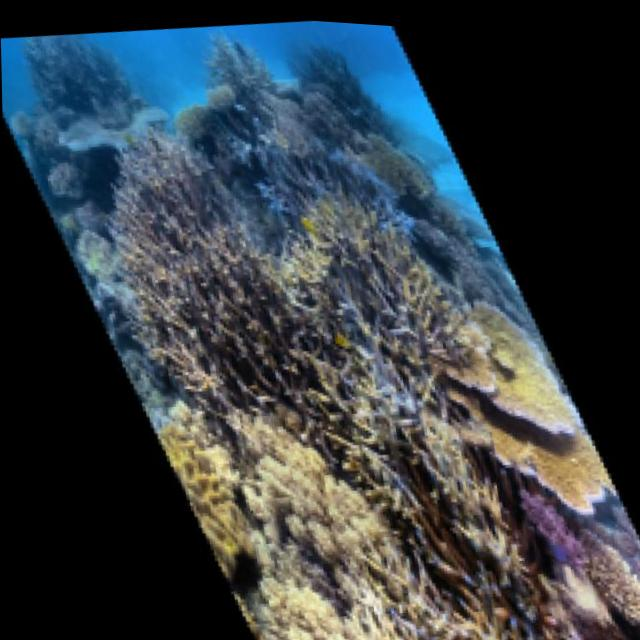Dead Coral: (69, 81, 379, 423), (259, 159, 498, 429)
